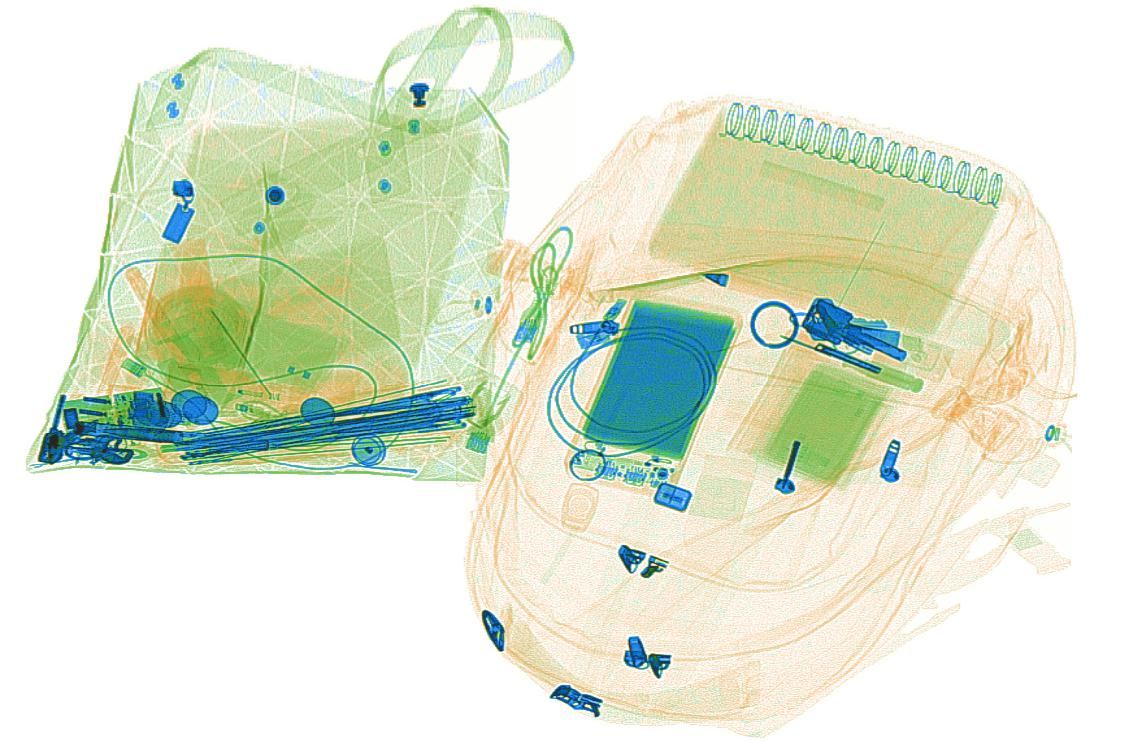plasticBottleWithaNozzle: (162, 361, 306, 412)
